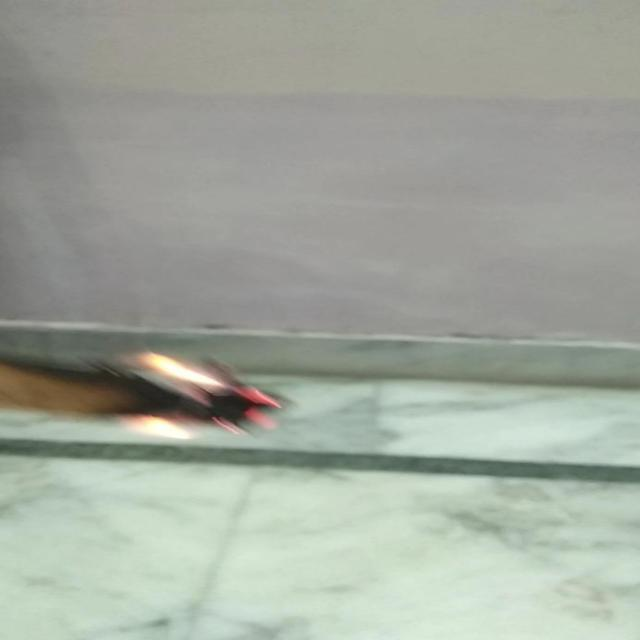smoke: (111, 348, 286, 442)
